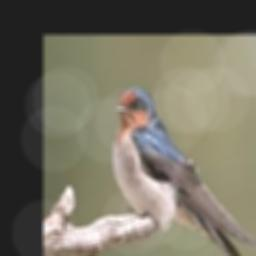Swallow: (111, 87, 256, 256)
